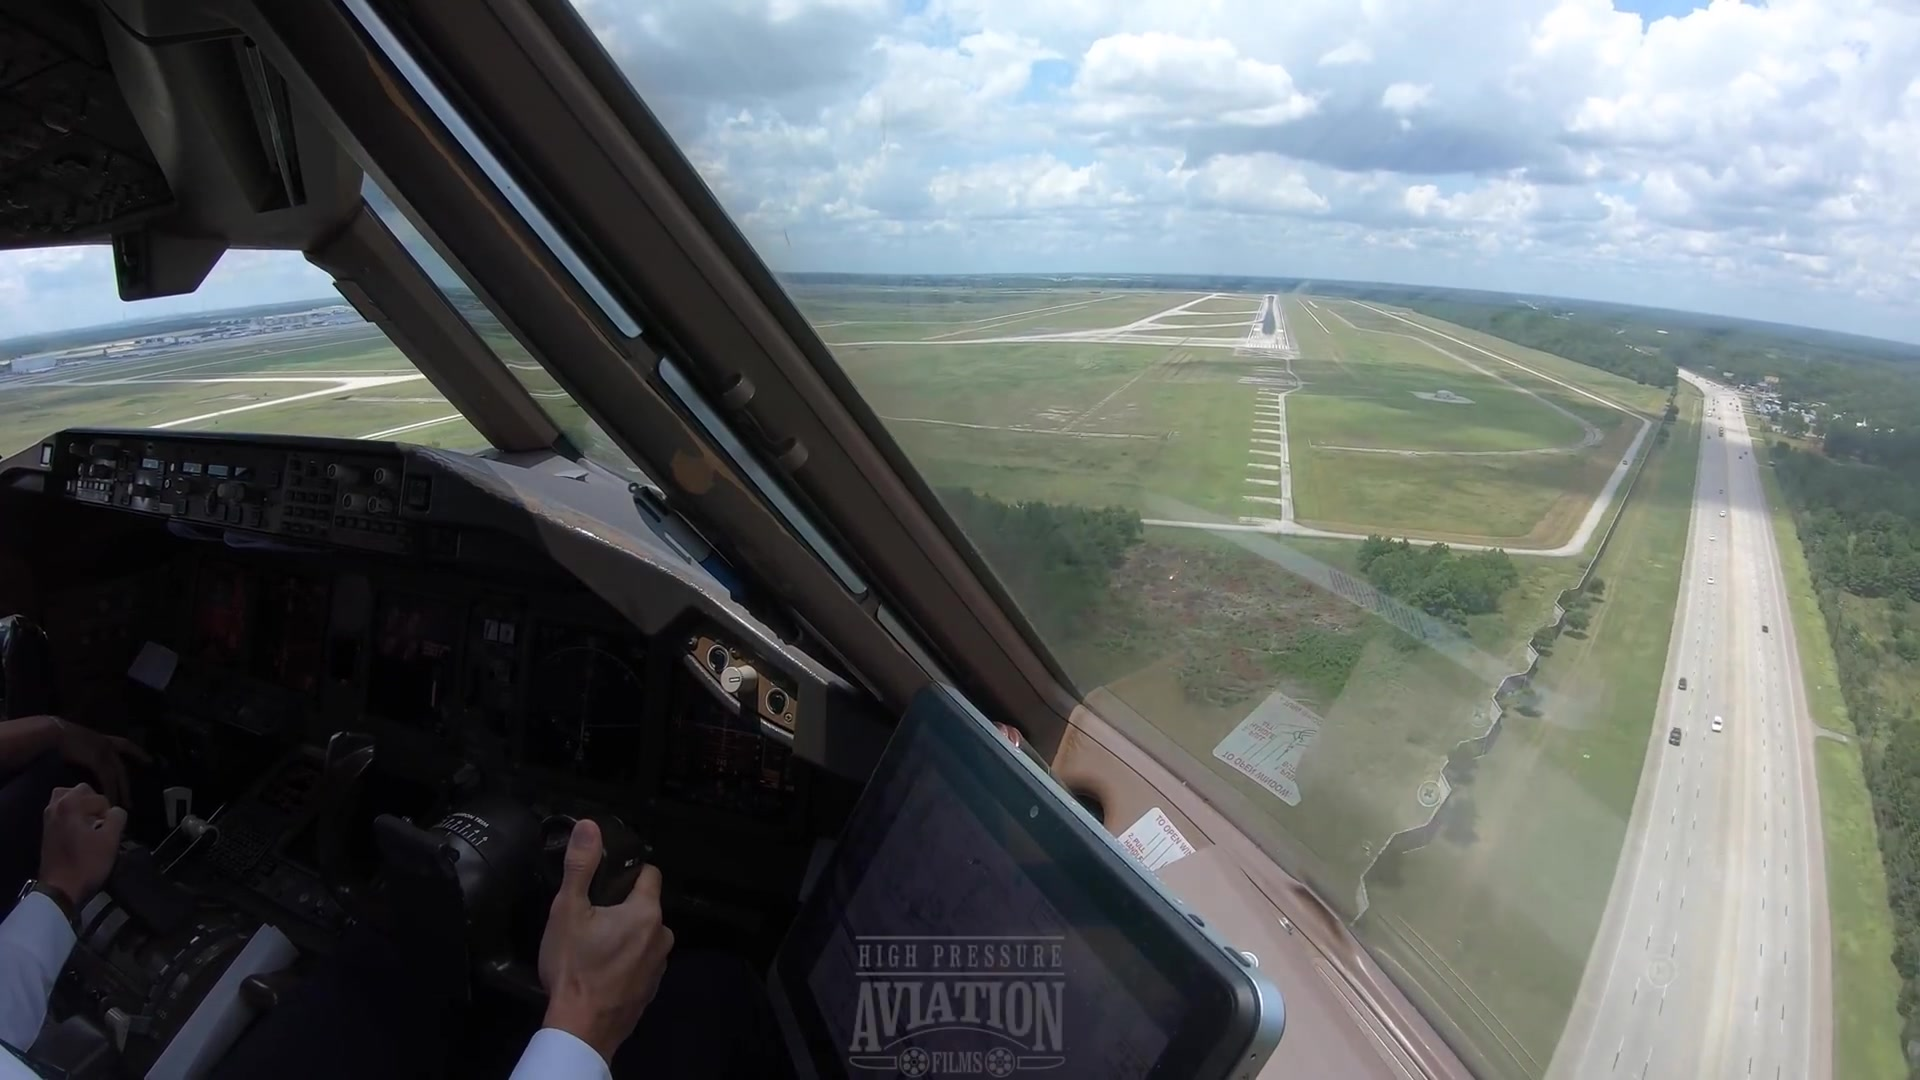entrance: (1244, 342, 1288, 349)
runway: (1242, 295, 1291, 355)
